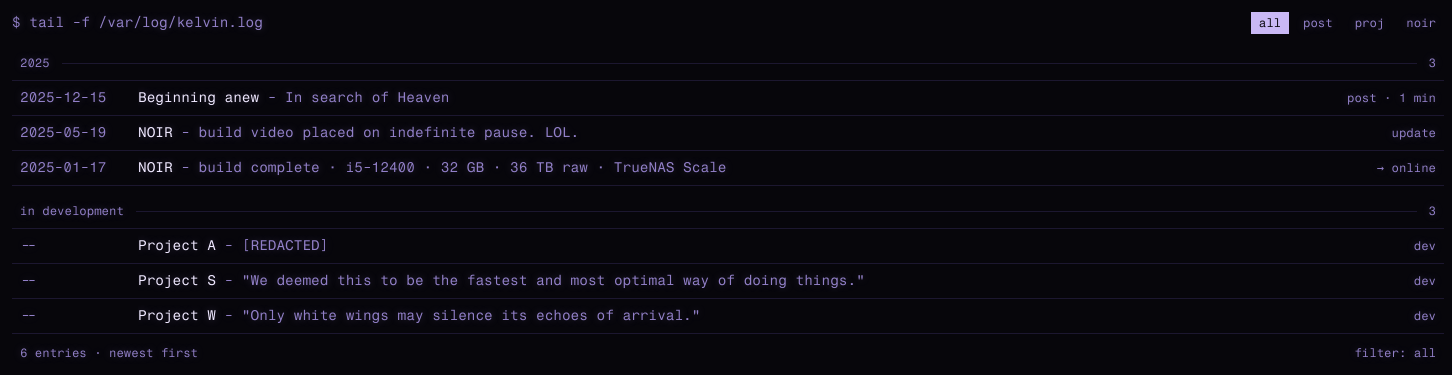
Scenario: Home › shows only the in-development group for the proj filter
The width and height of the screenshot is (1452, 375).
Click the button "proj".
click(1370, 23)  # box [1347,12,1392,34]
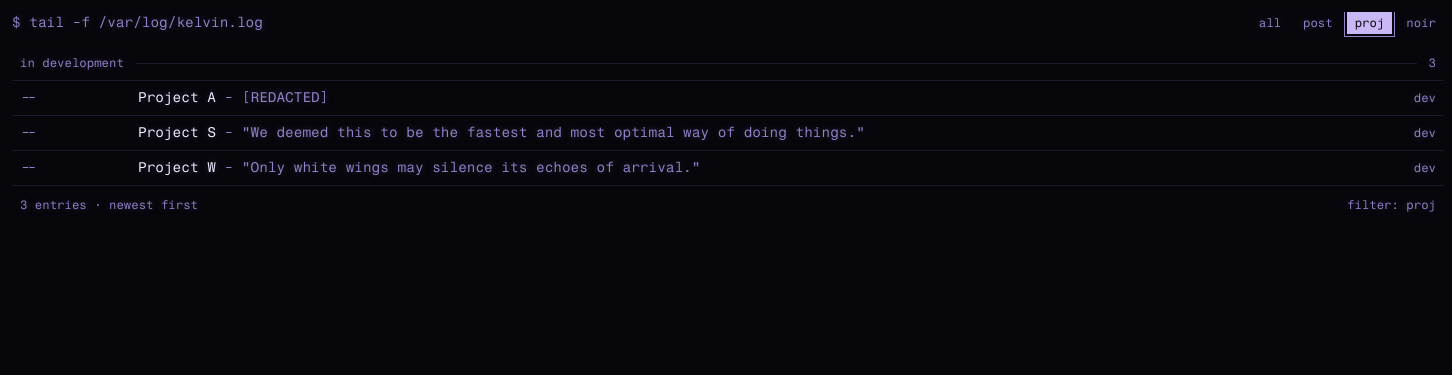
Check: the text "2025" is gone
Check: the text "3 entries · newest first" is shown, box [20,194,198,216]
Check: the text "filter: proj" is shown, box [1347,194,1436,216]
